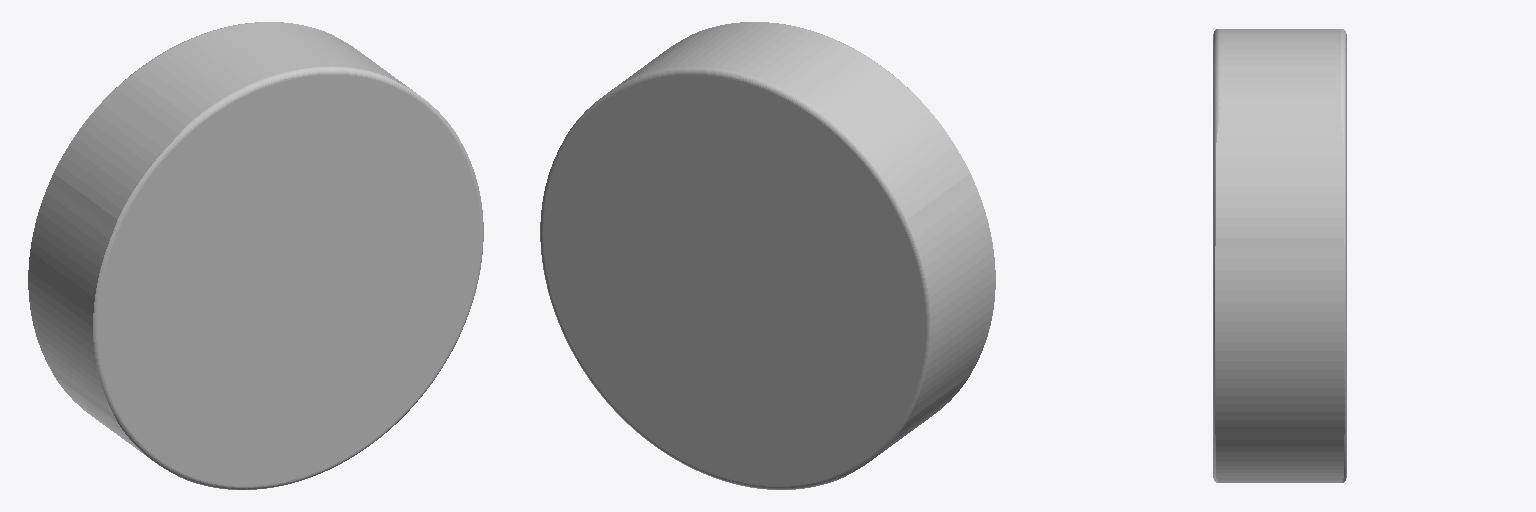
File: wheel.obj
3 views of the same model, side by side, from view 1: azimuth 30°, elevation 25°; view 2: azimuth 150°, elevation 25°; view 3: azimuth 270°, elevation 25° (orthographic).
Visible parts, largest first — view 1: main_wheel; view 2: main_wheel; view 3: main_wheel.
Part boxes in pixels (x1,y1,x2,y2): main_wheel: (28,22,483,489); main_wheel: (540,22,995,489); main_wheel: (1213,29,1346,482).
Bounding box in the file's own units: 0.0698 × 0.0704 × 0.0206.